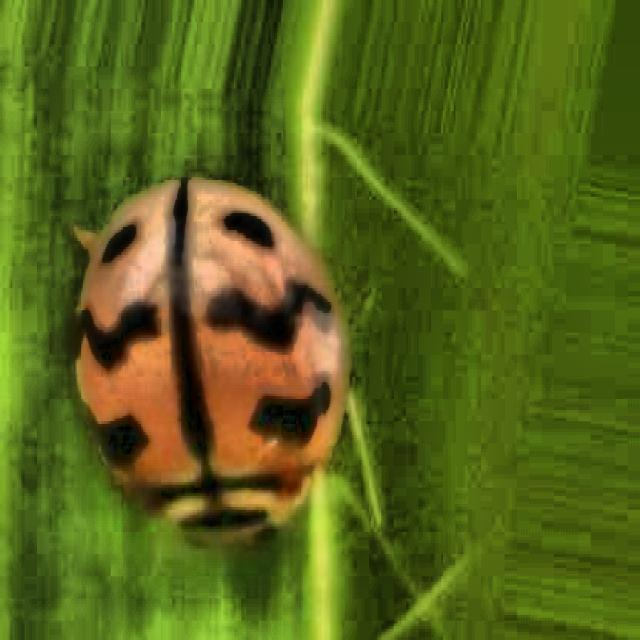Asian-Lady-beetle: (43, 150, 386, 578)
